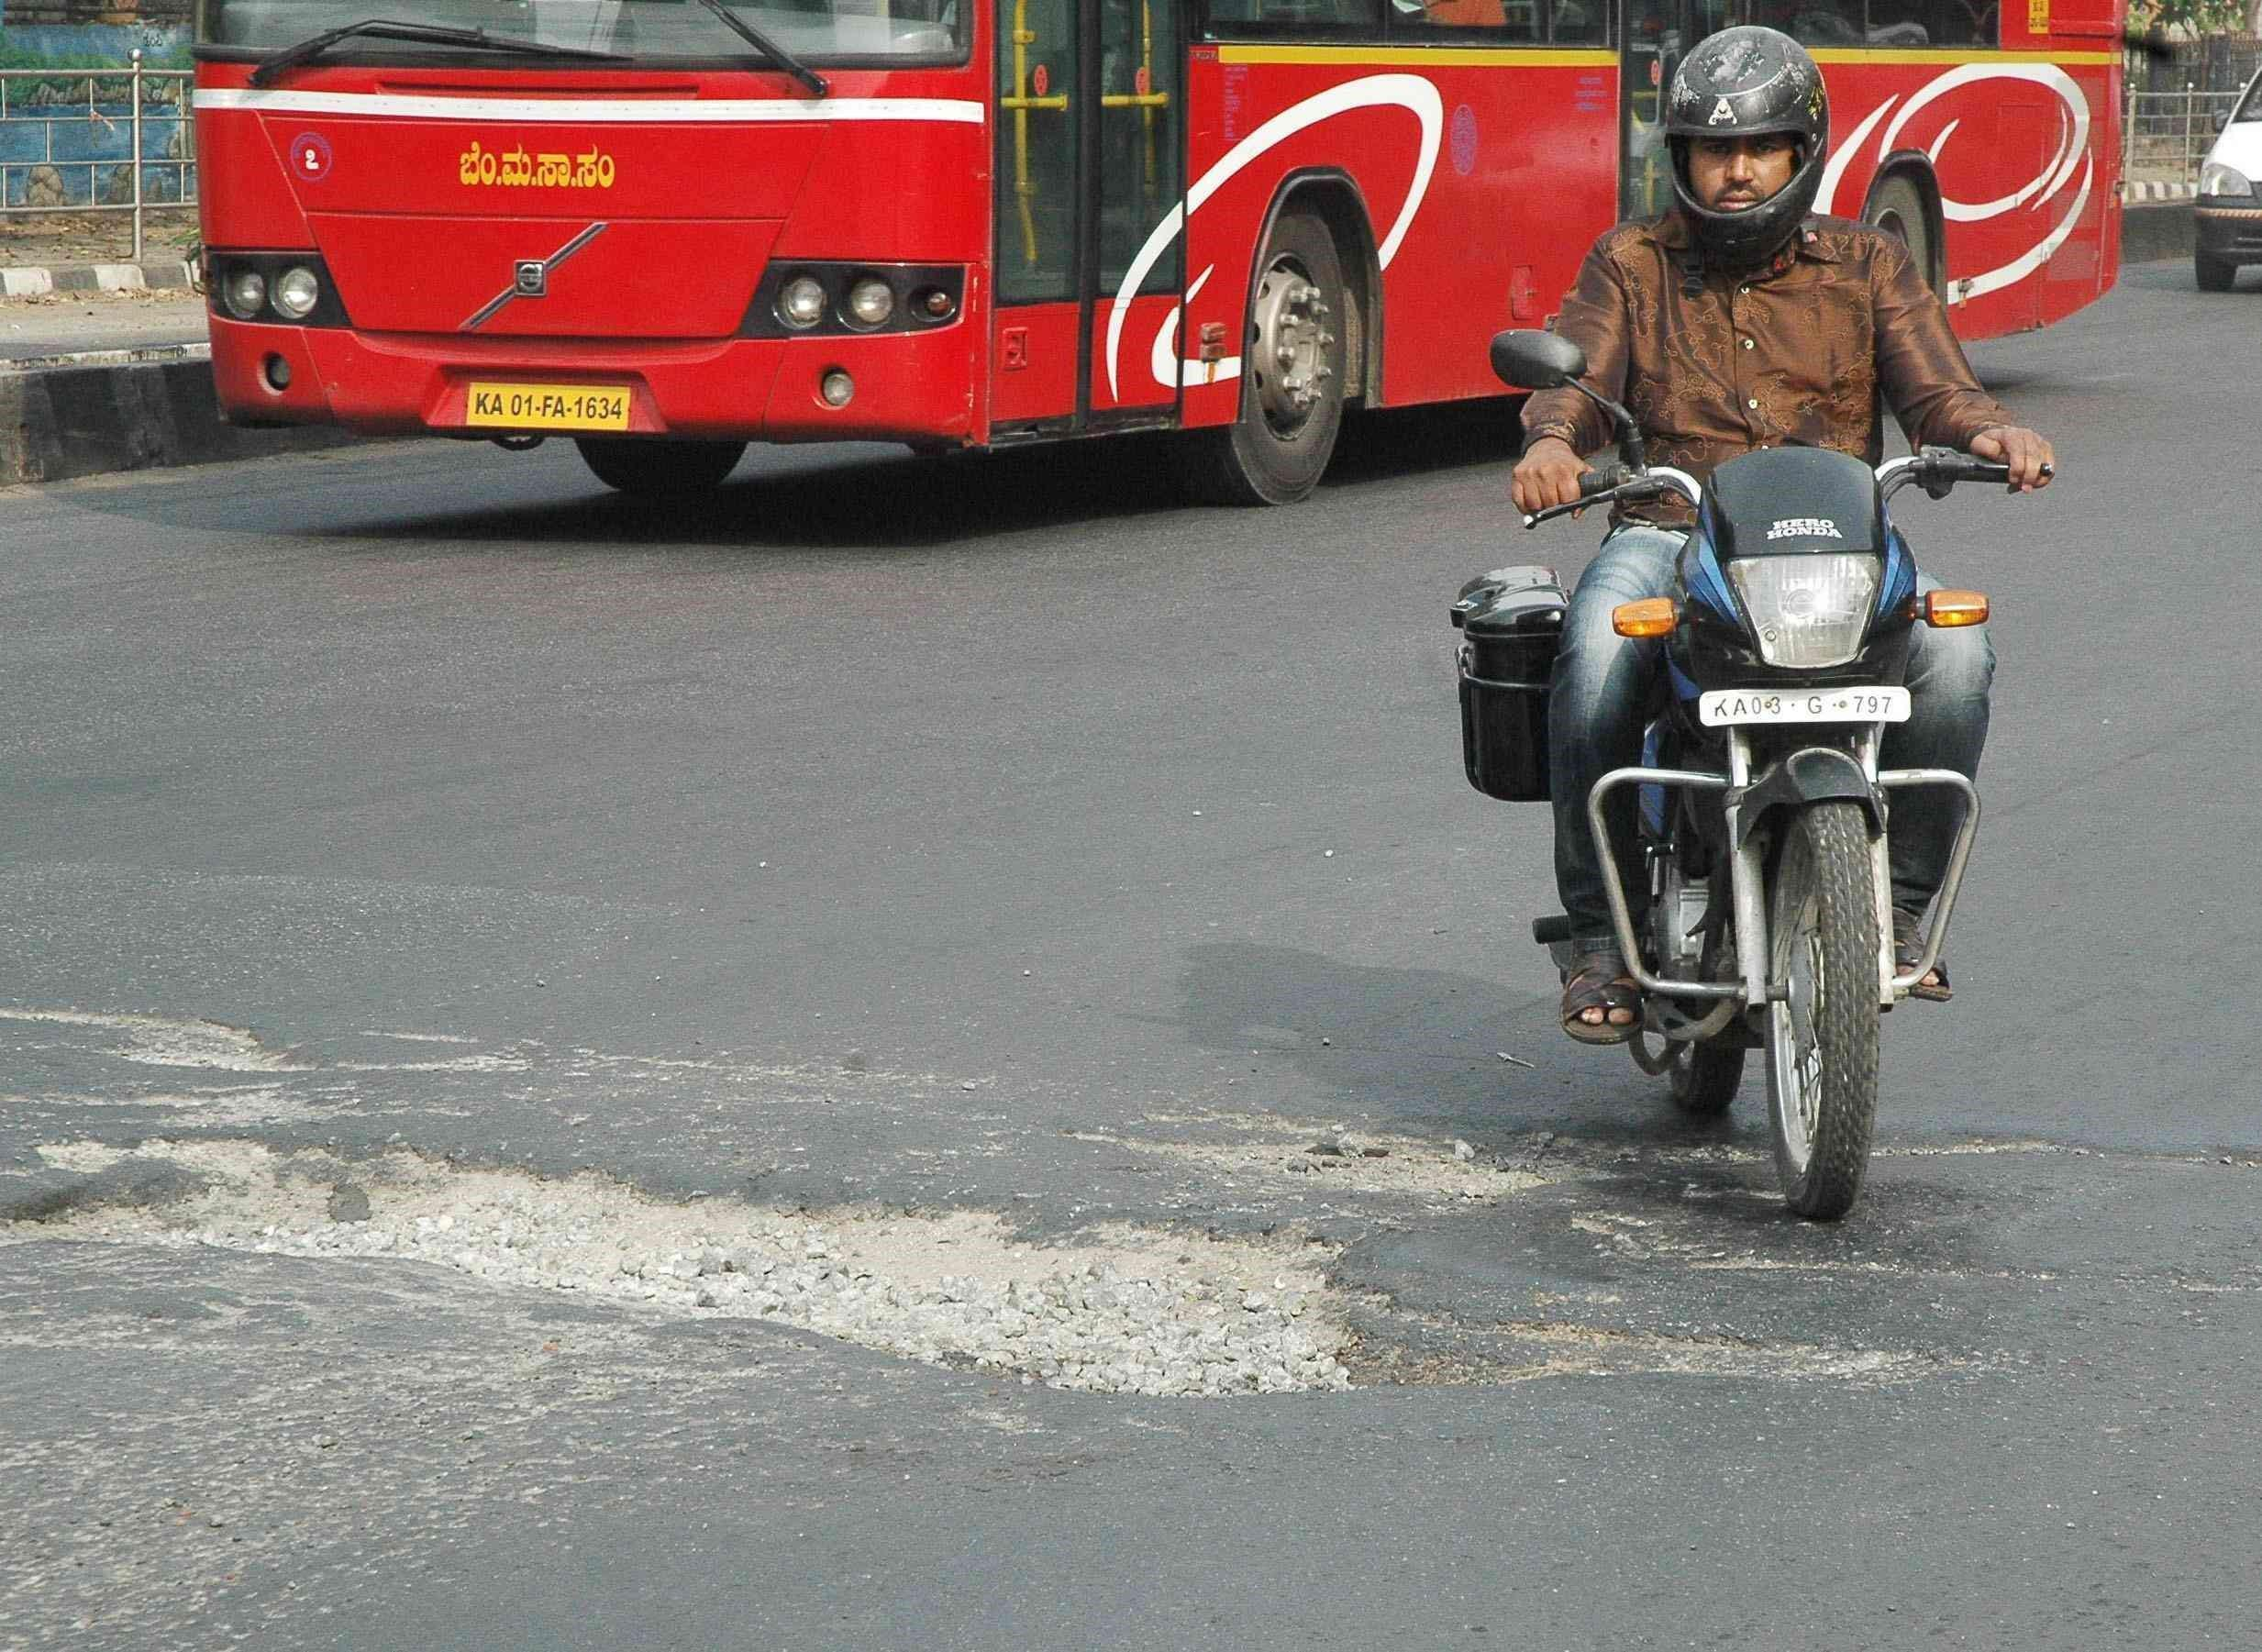MotorCycle: (1579, 453, 2006, 1255)
